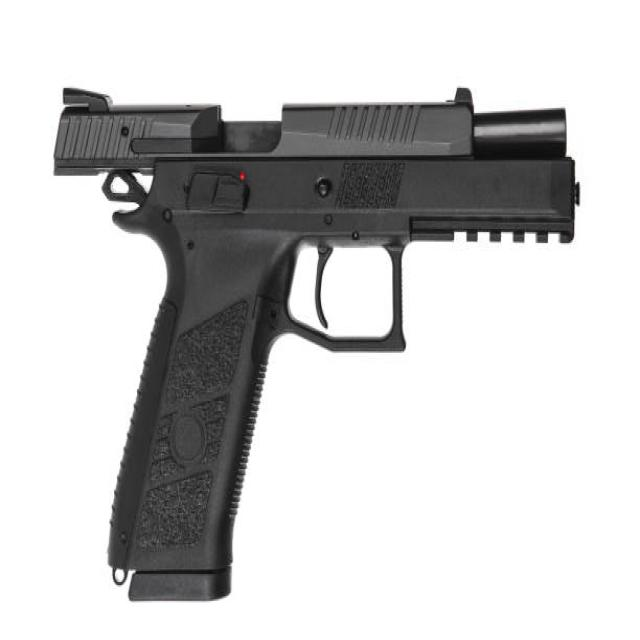pistol: (53, 76, 587, 616)
